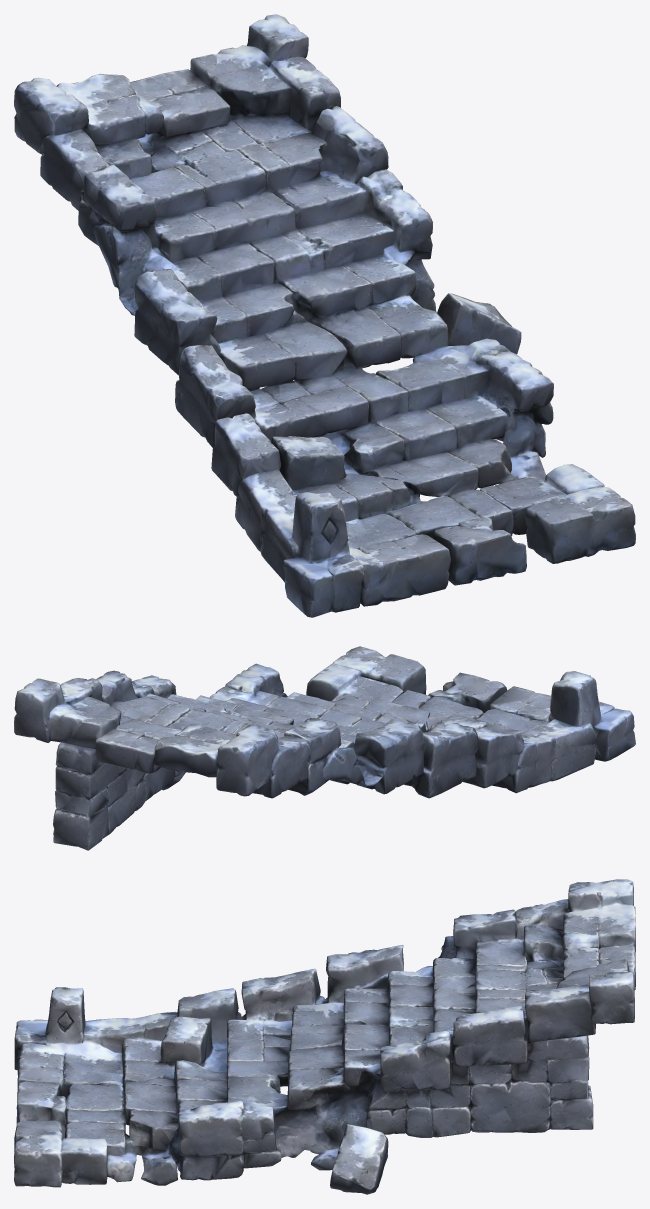
The model's file is escalinata.glb.
The picture shows the model from 3 angles, top to bottom: view 1: azimuth 30°, elevation 25°; view 2: azimuth 150°, elevation 25°; view 3: azimuth 270°, elevation 25°; orthographic projection. The views are drawn at different scales.
Visible parts, largest first — view 1: tripo_node_fc5e7a76-bbad-4882-8124-de1011b042c7; view 2: tripo_node_fc5e7a76-bbad-4882-8124-de1011b042c7; view 3: tripo_node_fc5e7a76-bbad-4882-8124-de1011b042c7.
Boxes of the visible parts, box(x1,y1,x2,y2) form: tripo_node_fc5e7a76-bbad-4882-8124-de1011b042c7: box(14, 14, 635, 617); tripo_node_fc5e7a76-bbad-4882-8124-de1011b042c7: box(14, 646, 635, 850); tripo_node_fc5e7a76-bbad-4882-8124-de1011b042c7: box(14, 879, 635, 1194).
Size of the model in its own units: 0.6411 by 0.3811 by 0.9987.
1 material, 1 textured.
